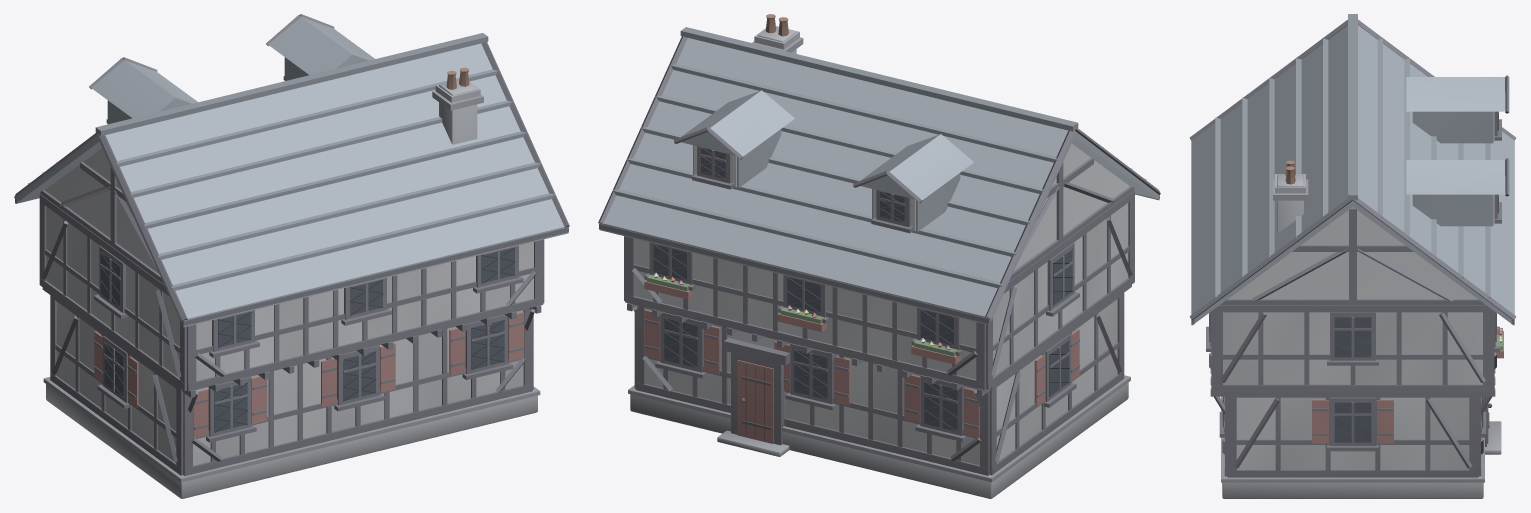
Rendered from hall_frost.gltf.
3 views of the same model, side by side, from view 1: azimuth 30°, elevation 25°; view 2: azimuth 150°, elevation 25°; view 3: azimuth 270°, elevation 25° (orthographic). The views are drawn at different scales.
Parts seen in each view (by area): view 1: Body; view 2: Body; view 3: Body.
Part boxes in pixels (box(x1,y1,x2,y2)): Body: box(14, 14, 569, 498); Body: box(598, 14, 1160, 498); Body: box(1189, 14, 1516, 498).
Bounding box in the file's own units: 11.17 × 8.99 × 8.51.
